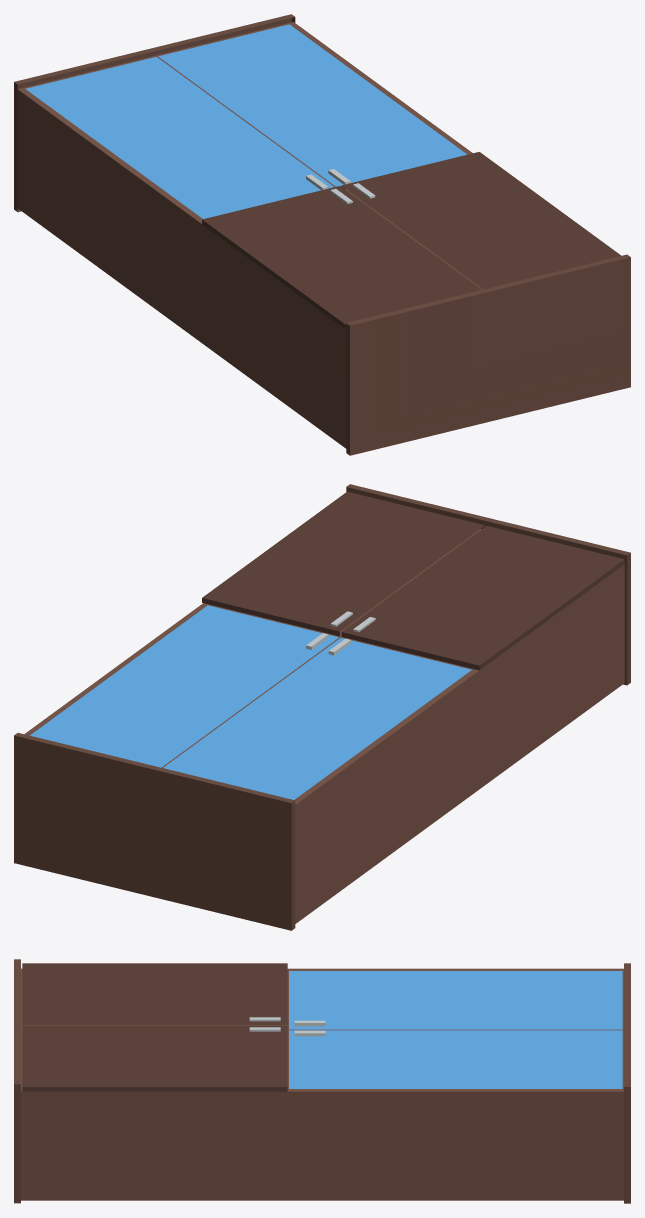
The model's file is locker.glb.
3 views of the same model, one above another, from view 1: azimuth 30°, elevation 25°; view 2: azimuth 150°, elevation 25°; view 3: azimuth 270°, elevation 25° (orthographic). The views are drawn at different scales.
Visible parts, largest first — view 1: closet_022; view 2: closet_022; view 3: closet_022.
Part boxes in pixels (<box>): closet_022: <box>14,14,630,455</box>; closet_022: <box>14,484,630,930</box>; closet_022: <box>14,959,630,1203</box>.
Bounding box in the file's own units: 0.8501 × 0.3799 × 1.77.
Materials: 1 (1 with a texture image).
